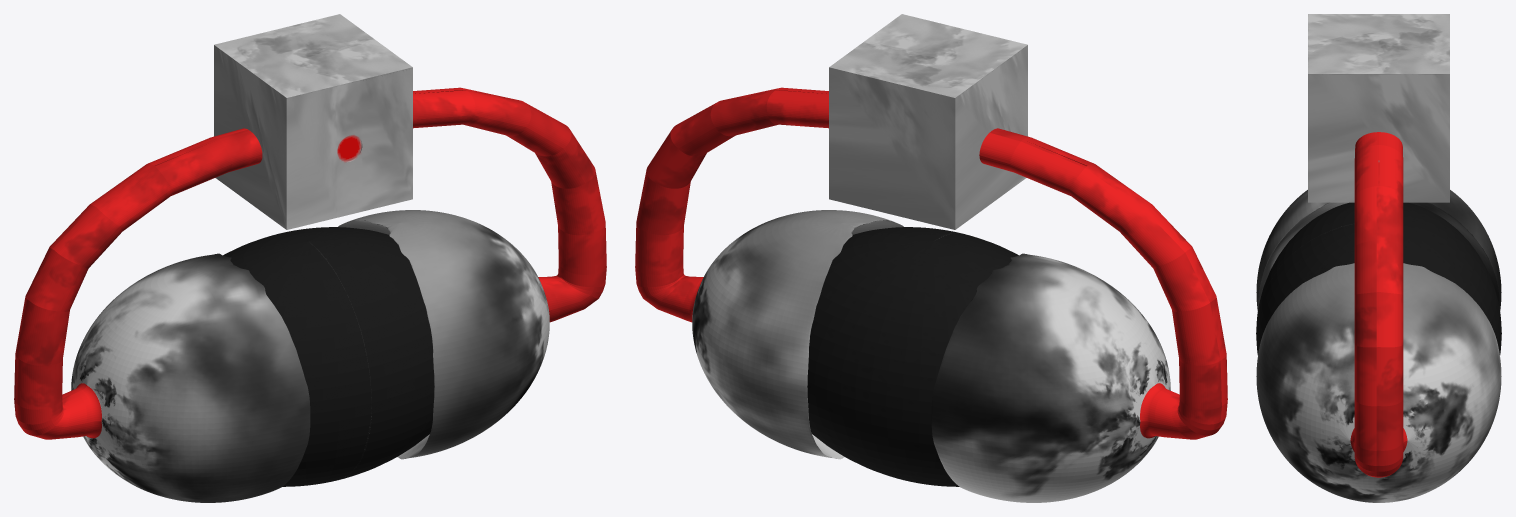
File: RobotBuffer.fbx
3 renders of one model, left to right at view 1: azimuth 30°, elevation 25°; view 2: azimuth 150°, elevation 25°; view 3: azimuth 270°, elevation 25°, orthographic. The views are drawn at different scales.
Parts seen in each view (by area): view 1: Sphere.002, Sphere.004, Sphere, Cube; view 2: Sphere.002, Sphere.004, Cube, Sphere; view 3: Sphere.002, Cube, Sphere.004, Sphere.
Part boxes in pixels (box(x1,y1,x2,y2)): Sphere.002: box(71, 210, 549, 502); Sphere.004: box(14, 87, 606, 439); Sphere: box(223, 227, 434, 486); Cube: box(214, 14, 412, 229); Sphere.002: box(692, 210, 1170, 502); Sphere.004: box(635, 87, 1227, 439); Cube: box(829, 14, 1027, 229); Sphere: box(807, 227, 1018, 486); Sphere.002: box(1256, 190, 1501, 502); Cube: box(1308, 14, 1449, 202); Sphere.004: box(1350, 132, 1407, 477); Sphere: box(1256, 202, 1501, 354).
Size of the model in its own units: 530 by 359 by 197.
